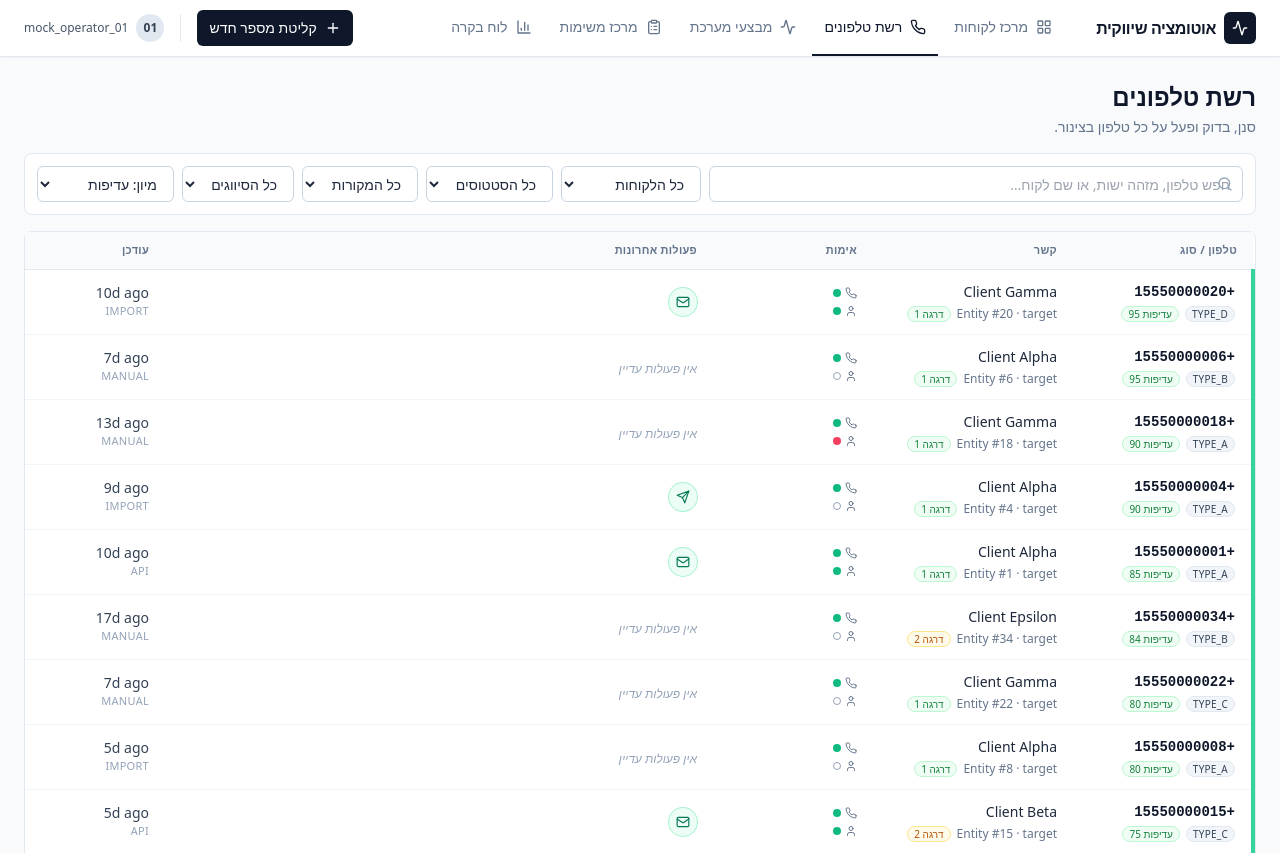
it: Phase DY-4-C — Vector A verdict form › renders both axes with confirm/refute pills
expect the heading "רשת טלפונים" is shown: met, box x1=1112 y1=80 x2=1256 y2=113
Note: Click any non-envelope phone row.
Click the text "+15550000020".
click(1185, 292)  # box x1=1134 y1=284 x2=1235 y2=300
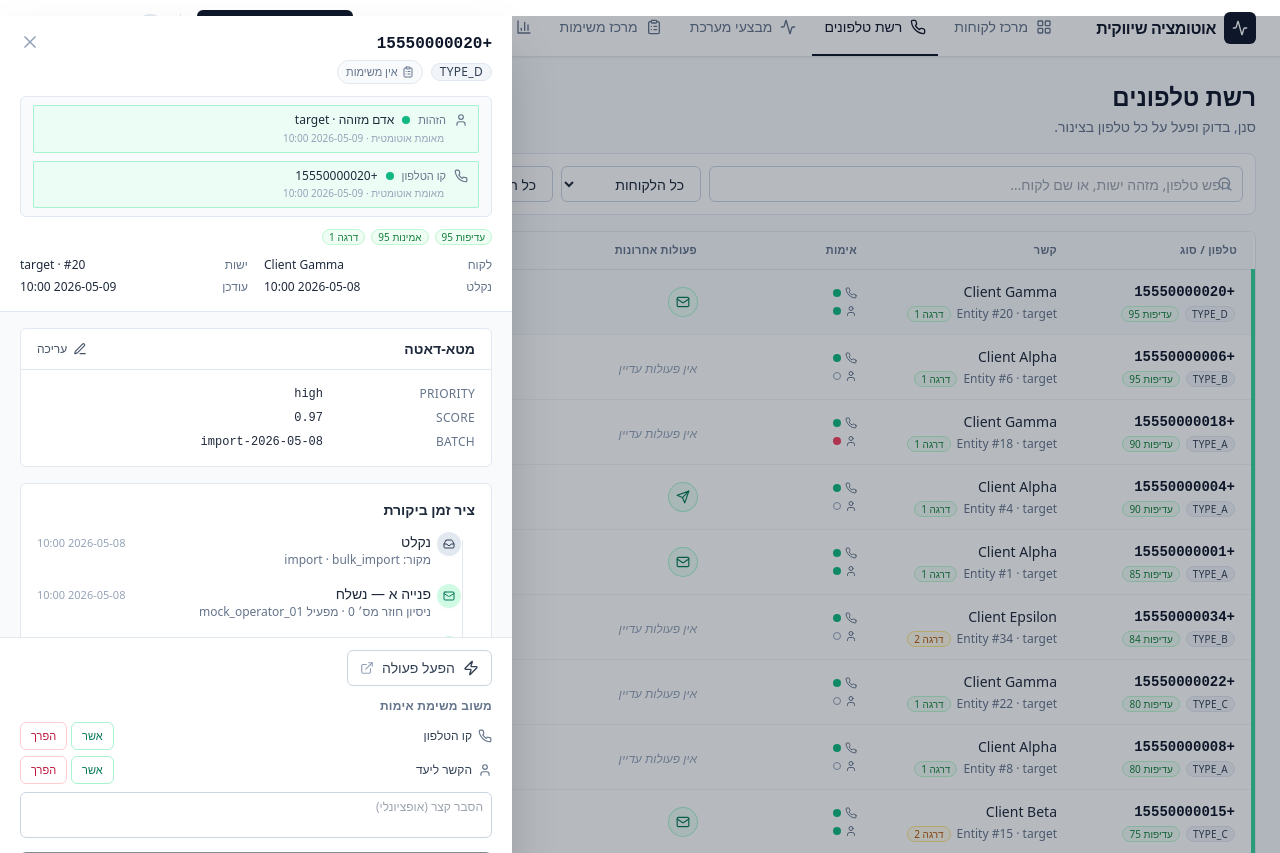
expect the heading "משוב משימת אימות" is shown: met, box x1=380 y1=697 x2=492 y2=714
expect the text "הקשר ליעד" is shown: met, box x1=416 y1=762 x2=472 y2=778
